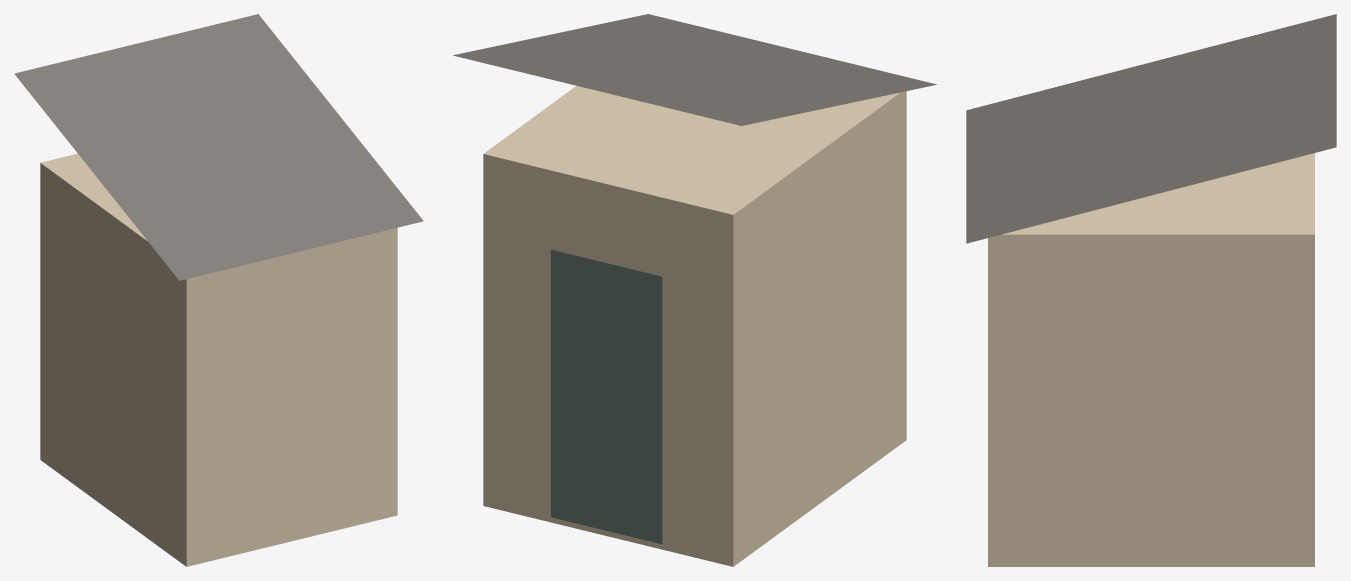
The model's file is recon_1835_north_a3_034__recommended_1835.glb.
3 views of the same model, side by side, from view 1: azimuth 30°, elevation 25°; view 2: azimuth 150°, elevation 25°; view 3: azimuth 270°, elevation 25° (orthographic). The views are drawn at different scales.
Visible parts, largest first — view 1: recon_1835_north_a3_034__recommended_1835; view 2: recon_1835_north_a3_034__recommended_1835; view 3: recon_1835_north_a3_034__recommended_1835.
Part boxes in pixels (<box>): recon_1835_north_a3_034__recommended_1835: <box>14,14,423,566</box>; recon_1835_north_a3_034__recommended_1835: <box>453,14,936,566</box>; recon_1835_north_a3_034__recommended_1835: <box>966,14,1336,566</box>.
Size of the model in its own units: 1.76 by 2.64 by 2.07.
